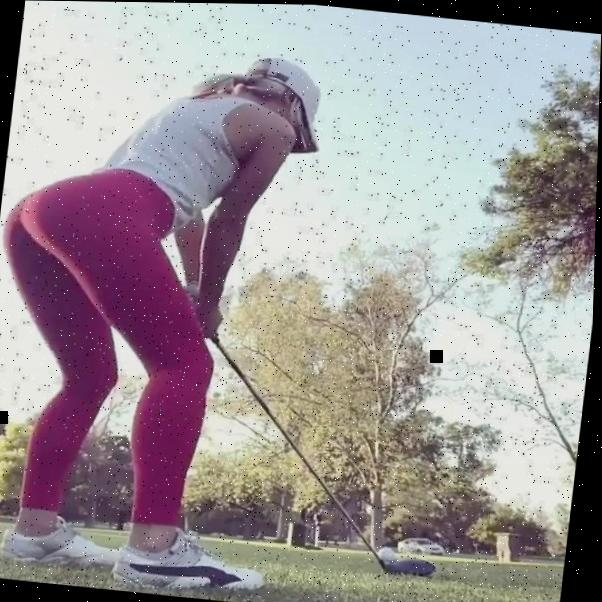ClubHead: (386, 553, 442, 577)
GolfBall: (381, 546, 401, 560)
